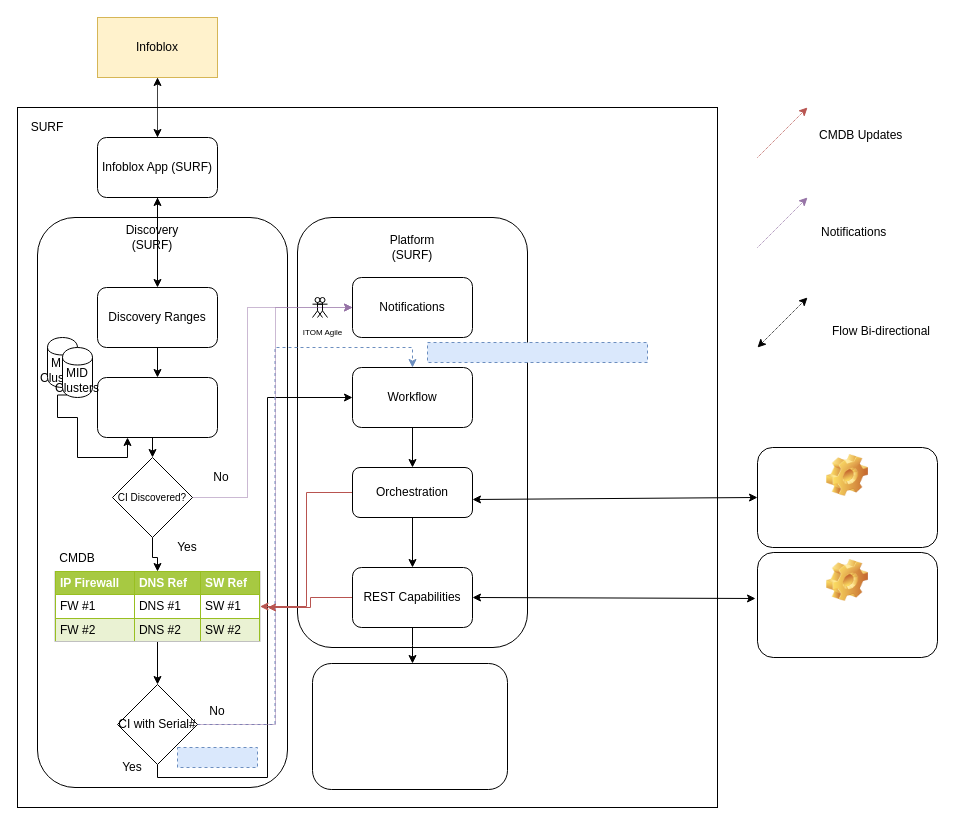
This 958x825 diagram has some shape labels left out. The box of each missing label's shape, as (x1, y1, x2, y2) in pixels:
Business Rules: (176, 746, 258, 768)
Discovery Schedules: (96, 376, 218, 438)
DNS: (756, 446, 938, 548)
Re Run Adhoc discovery: (312, 662, 508, 790)
SolarWinds: (756, 552, 938, 658)
WF waits till Serial# population: (426, 342, 648, 362)
